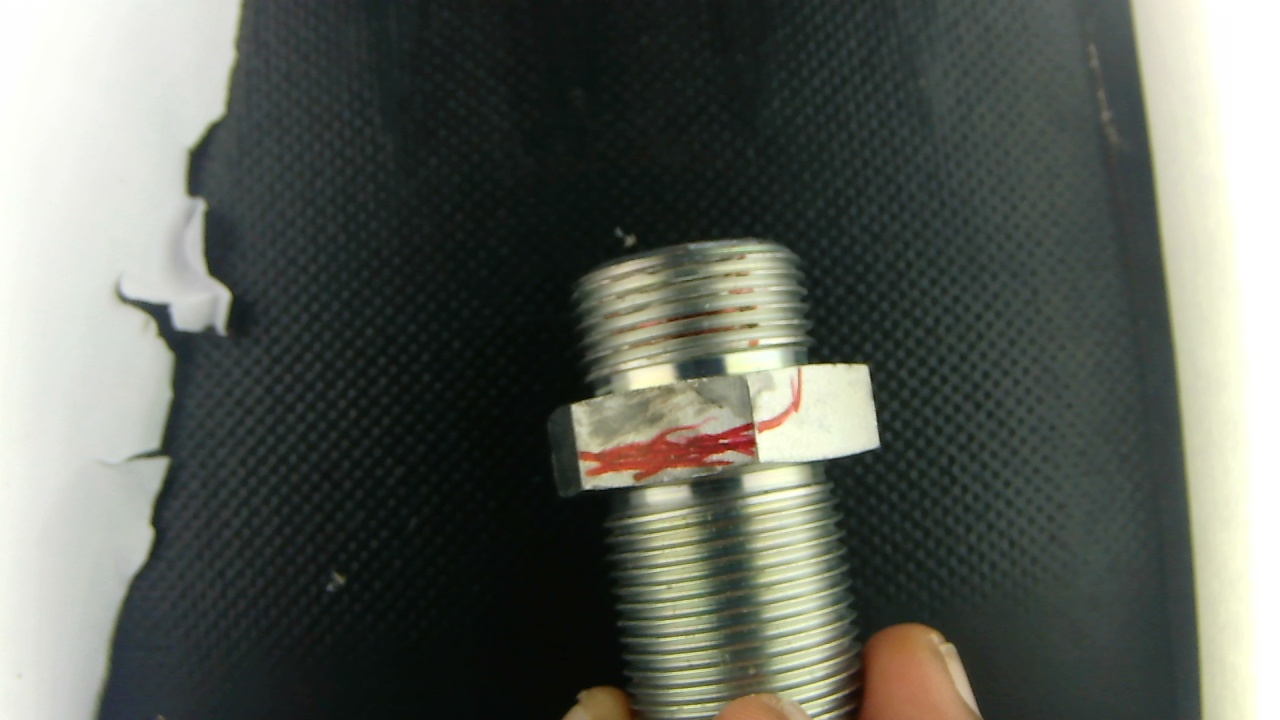blackpatch: (570, 374, 779, 442)
